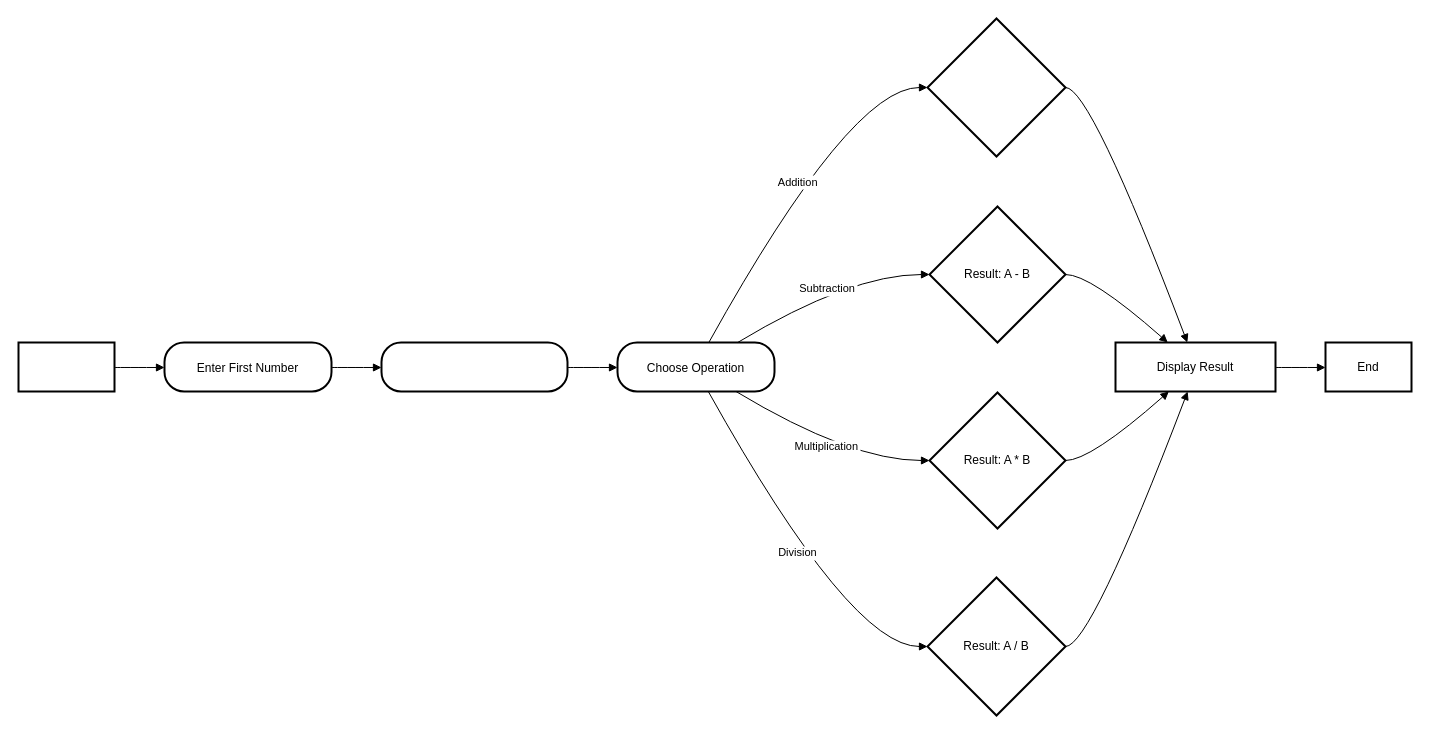
Image size: 1429x733. Some labels were removed from this diagram. The shapes that lost their labels are listed below. From the top down, each one's box as (x1, y1, x2, y2) in pixels, then its label:
(926, 17, 1066, 157): Result: A + B
(17, 341, 115, 392): Start
(380, 341, 568, 392): Enter Second Number
